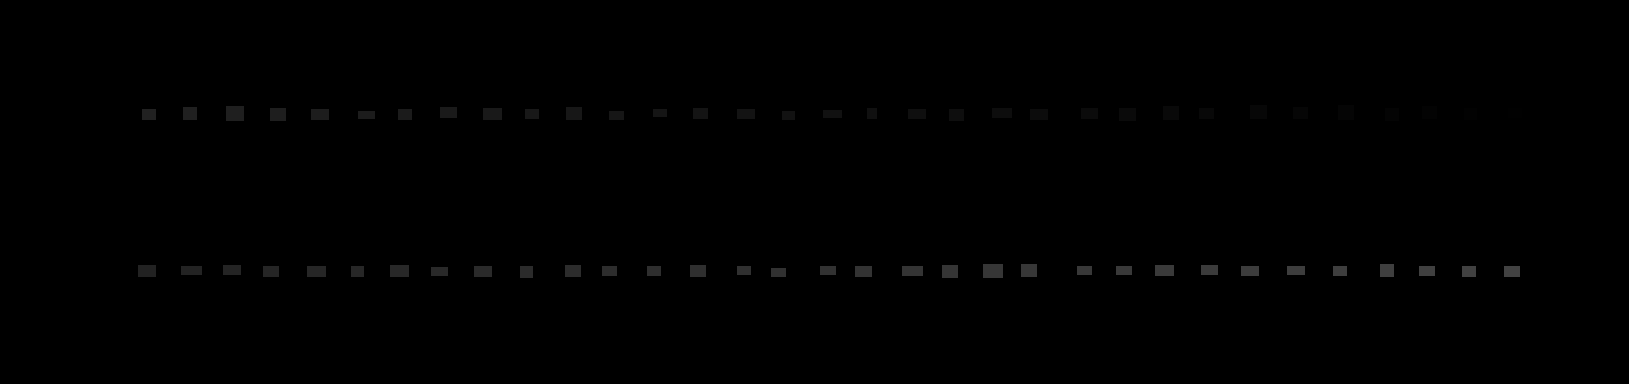light: (983, 264, 1003, 278), (226, 106, 244, 121), (1250, 105, 1267, 119), (390, 265, 409, 277), (1338, 105, 1354, 120), (1163, 106, 1179, 120), (483, 108, 502, 120), (1119, 108, 1136, 121), (138, 265, 156, 277), (902, 266, 923, 276), (1030, 109, 1048, 120), (311, 109, 329, 120), (308, 266, 326, 277), (474, 266, 492, 277), (1155, 265, 1174, 276), (566, 107, 582, 120), (270, 108, 286, 121), (942, 265, 958, 278), (1021, 264, 1037, 277), (690, 265, 706, 277), (992, 108, 1012, 118), (1422, 106, 1437, 119), (1385, 108, 1399, 121), (183, 107, 197, 120), (1380, 264, 1394, 277), (949, 109, 964, 121), (737, 109, 755, 119), (181, 266, 202, 275), (565, 265, 581, 277), (1081, 108, 1098, 119), (440, 107, 457, 118), (263, 266, 279, 277), (855, 266, 872, 277), (908, 109, 926, 119), (223, 265, 241, 275), (1241, 266, 1259, 276), (1293, 107, 1308, 119), (1199, 108, 1214, 119), (1504, 266, 1520, 277), (1201, 265, 1218, 275), (1464, 108, 1477, 120), (693, 108, 707, 119), (398, 109, 412, 120), (1462, 266, 1476, 277), (1287, 266, 1305, 275), (602, 266, 617, 276), (1419, 266, 1435, 276), (823, 110, 842, 118), (431, 267, 448, 276), (520, 266, 533, 278), (820, 266, 836, 275), (1116, 266, 1132, 275), (142, 109, 156, 120), (525, 109, 539, 119), (1333, 266, 1347, 276), (609, 111, 624, 120), (771, 268, 786, 277), (351, 266, 364, 277), (1508, 108, 1522, 118), (647, 266, 661, 276), (358, 111, 375, 119), (737, 266, 751, 275), (1077, 266, 1092, 275), (782, 111, 795, 120), (653, 109, 667, 117), (867, 108, 877, 119)
